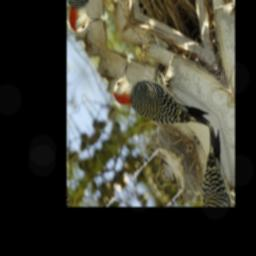Woodpecker: (105, 29, 214, 179)
